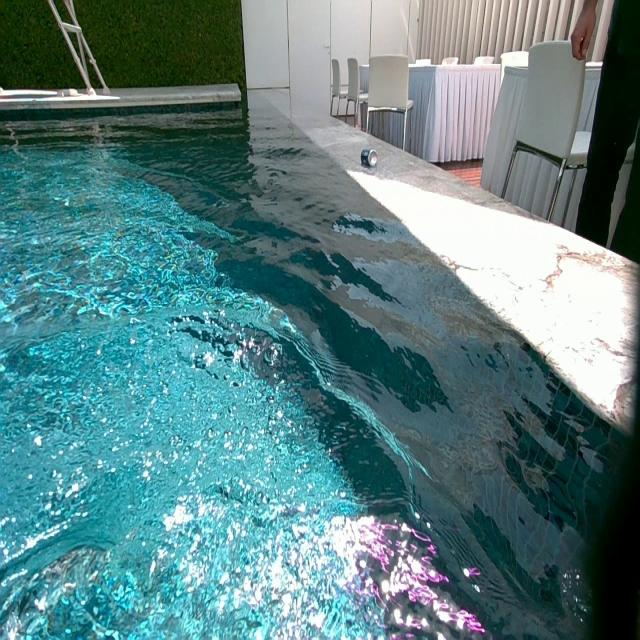Cans: (360, 147, 377, 165)
